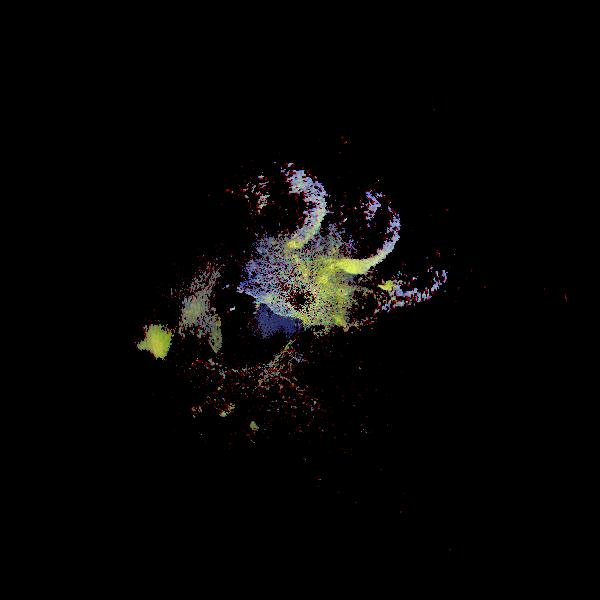roost: (301, 172, 415, 286), (233, 159, 335, 261), (363, 218, 462, 317), (103, 317, 172, 386)
